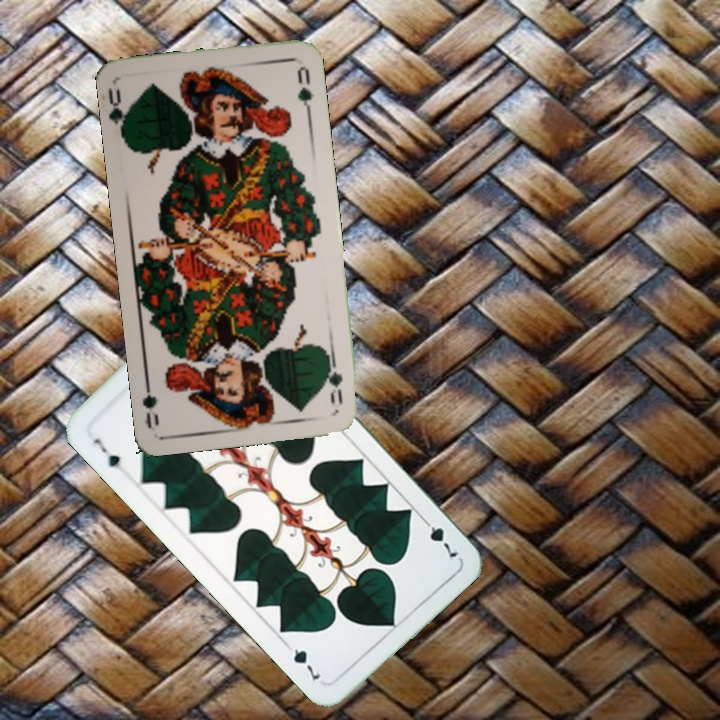G7: (417, 513, 461, 563), (88, 434, 123, 471)
GO: (104, 83, 133, 142), (321, 350, 346, 407)
